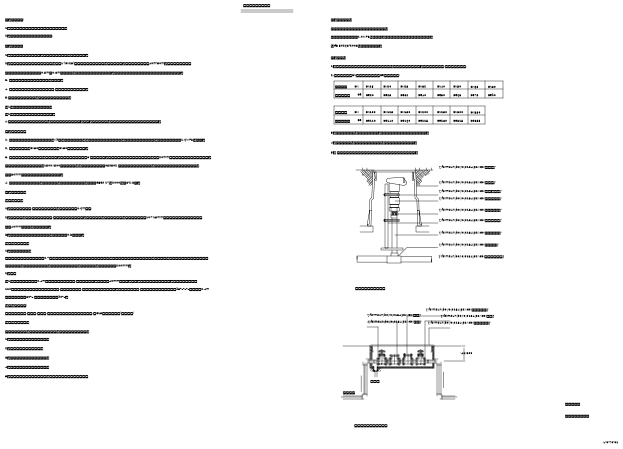door: (332, 173, 386, 248), (314, 252, 414, 264), (374, 166, 465, 176), (283, 194, 314, 200), (415, 194, 445, 200), (385, 249, 389, 255)
window: (340, 44, 389, 67), (371, 44, 420, 67), (293, 254, 341, 273), (417, 254, 465, 273), (277, 254, 315, 273), (445, 254, 483, 273), (400, 254, 438, 273), (349, 48, 380, 63), (380, 48, 411, 63), (280, 258, 311, 269), (352, 41, 378, 54), (383, 42, 409, 55), (314, 258, 338, 269), (270, 258, 293, 269), (422, 258, 445, 269), (394, 258, 417, 269), (404, 258, 427, 269), (438, 258, 461, 269), (291, 41, 306, 48), (286, 3, 301, 10), (459, 41, 474, 48), (464, 3, 479, 10), (296, 261, 309, 268), (306, 261, 319, 268), (447, 261, 460, 268), (430, 261, 442, 268), (420, 261, 432, 268), (419, 48, 432, 54), (329, 48, 341, 54), (442, 263, 453, 268), (356, 39, 367, 44), (387, 39, 398, 44), (458, 41, 469, 46), (281, 263, 291, 268), (292, 263, 302, 268), (438, 261, 448, 266), (405, 263, 415, 268), (415, 263, 425, 268), (363, 39, 373, 44), (394, 39, 404, 44), (286, 5, 296, 10), (296, 41, 306, 46), (469, 5, 479, 10), (287, 261, 296, 266), (297, 261, 306, 266), (411, 261, 420, 266), (421, 261, 430, 266), (303, 263, 312, 267), (427, 263, 436, 267), (445, 262, 453, 266), (417, 262, 425, 266), (427, 262, 435, 266), (430, 262, 438, 266), (294, 262, 301, 266), (304, 262, 311, 266), (307, 262, 314, 266), (284, 263, 290, 266), (434, 263, 440, 266), (408, 263, 414, 266), (290, 263, 295, 265), (304, 263, 309, 265), (440, 263, 445, 265), (445, 263, 450, 265), (414, 263, 419, 265), (417, 263, 422, 265), (369, 235, 374, 237), (364, 235, 369, 237), (359, 235, 364, 237), (352, 235, 357, 237), (350, 235, 355, 237), (345, 235, 350, 237), (369, 206, 374, 208), (364, 206, 369, 208), (359, 206, 364, 208), (352, 206, 357, 208), (350, 206, 355, 208), (345, 206, 350, 208), (243, 3, 248, 5), (501, 3, 506, 5), (504, 5, 509, 7), (294, 263, 298, 265), (301, 263, 305, 265), (300, 263, 304, 265), (452, 263, 456, 265), (431, 263, 435, 265), (424, 263, 428, 265), (428, 263, 432, 265), (374, 235, 378, 237), (367, 235, 371, 237), (372, 235, 376, 237), (357, 235, 361, 237), (362, 235, 366, 237), (348, 235, 352, 237), (355, 235, 359, 237), (374, 206, 378, 208), (367, 206, 371, 208), (372, 206, 376, 208), (357, 206, 361, 208), (362, 206, 366, 208), (348, 206, 352, 208), (355, 206, 359, 208), (243, 5, 247, 7), (240, 5, 244, 7), (308, 63, 312, 65), (453, 63, 457, 65), (502, 5, 506, 7), (290, 263, 293, 265), (308, 263, 311, 265), (413, 263, 417, 264), (424, 263, 427, 264), (386, 249, 389, 250), (320, 28, 323, 29), (318, 28, 321, 29), (318, 27, 321, 28), (340, 235, 342, 236), (340, 206, 342, 207), (370, 53, 372, 54), (418, 43, 420, 44), (431, 43, 433, 44), (327, 43, 329, 44), (341, 43, 343, 44), (358, 53, 359, 54), (425, 59, 426, 59), (426, 59, 427, 59), (424, 59, 425, 59), (386, 54, 387, 54), (386, 52, 387, 52), (389, 54, 390, 54), (388, 54, 390, 54), (387, 54, 389, 54), (388, 52, 390, 52), (387, 52, 389, 52), (403, 54, 404, 54), (404, 54, 405, 54), (402, 54, 403, 54), (403, 52, 404, 52), (404, 52, 405, 52), (402, 52, 403, 52), (334, 59, 335, 59), (335, 59, 336, 59), (333, 59, 334, 59)
